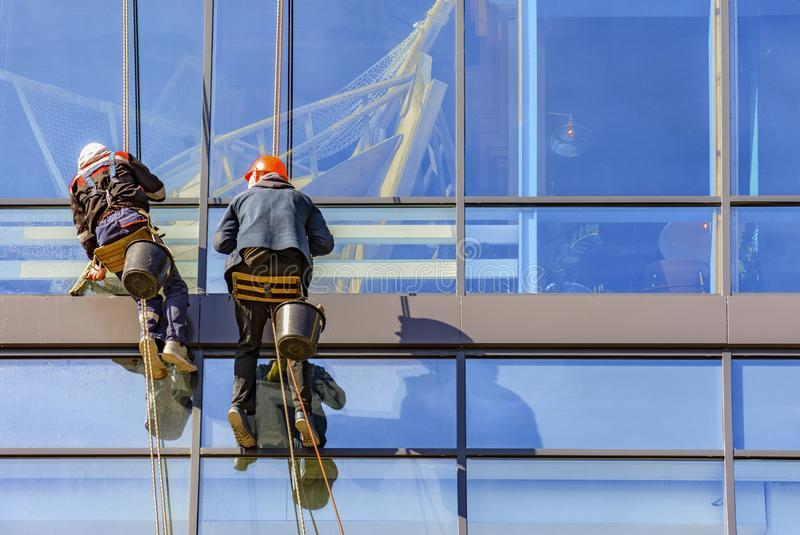helmet: (257, 156, 292, 187), (77, 142, 108, 170)
